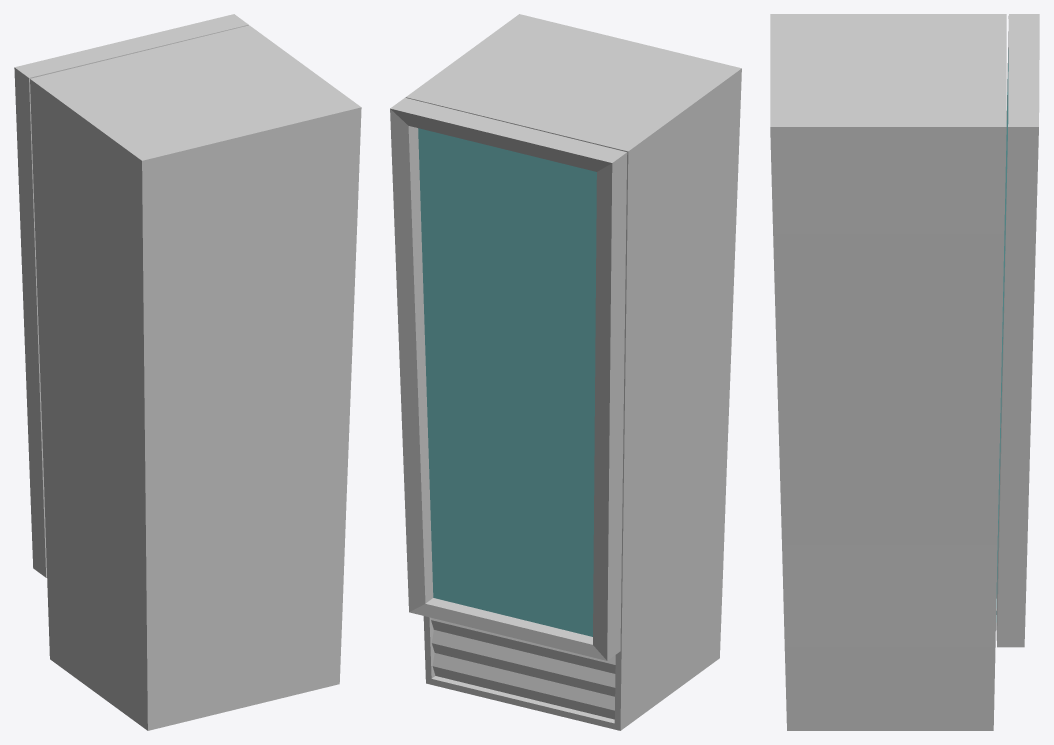
The model's file is Borrar al terminar de usar.fbx.
3 renders of one model, left to right at view 1: azimuth 30°, elevation 25°; view 2: azimuth 150°, elevation 25°; view 3: azimuth 270°, elevation 25°, orthographic. The views are drawn at different scales.
Parts seen in each view (by area): view 1: m_Heladera, m_Heladera_Puerta; view 2: m_Heladera_Puerta, m_Heladera; view 3: m_Heladera, m_Heladera_Puerta.
Part boxes in pixels (x1,y1,x2,y2): m_Heladera: (30,25,361,730); m_Heladera_Puerta: (14,14,248,577); m_Heladera_Puerta: (390,97,627,660); m_Heladera: (405,14,741,730); m_Heladera: (770,14,1006,730); m_Heladera_Puerta: (996,14,1039,647).
Size of the model in its own units: 219 by 552 by 221.
